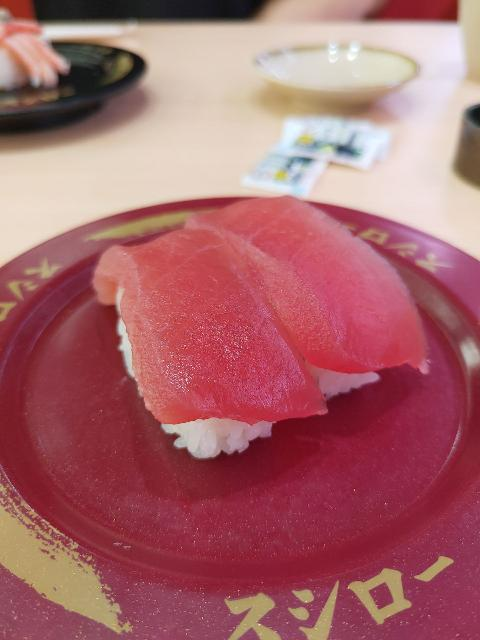janback: (0, 12, 170, 129)
janred: (15, 202, 472, 640)
